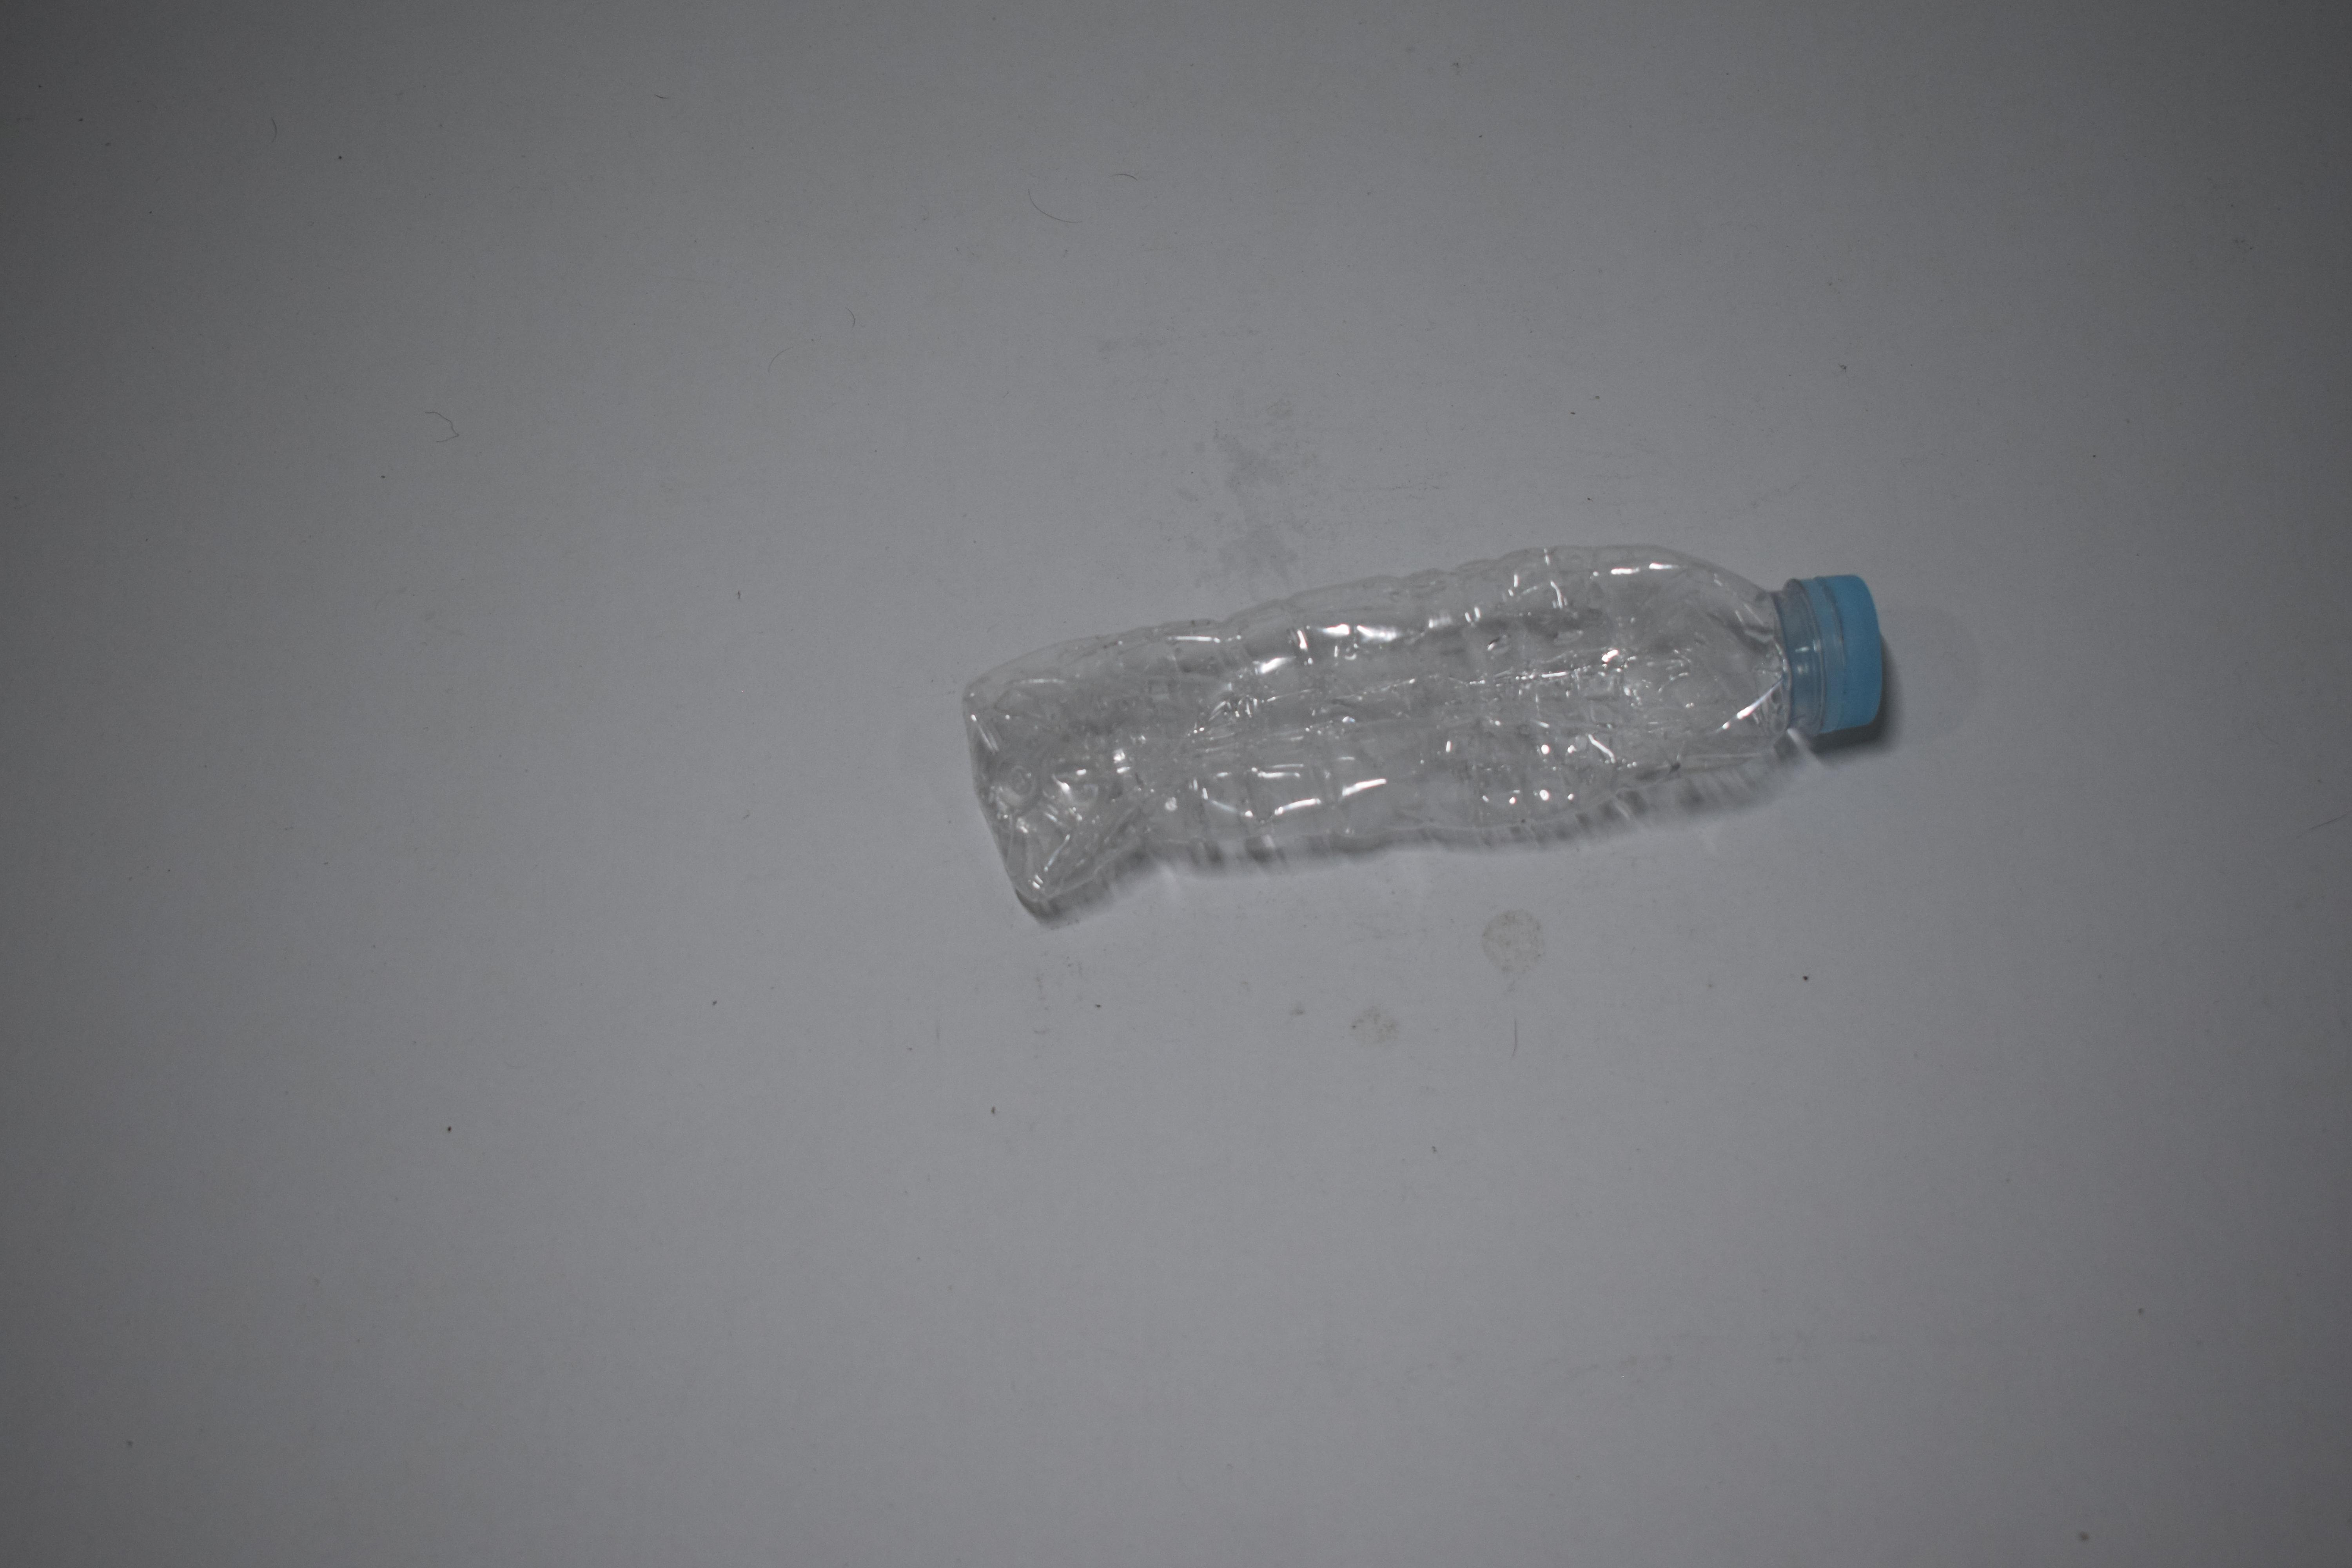bottle: (943, 569, 1883, 892)
